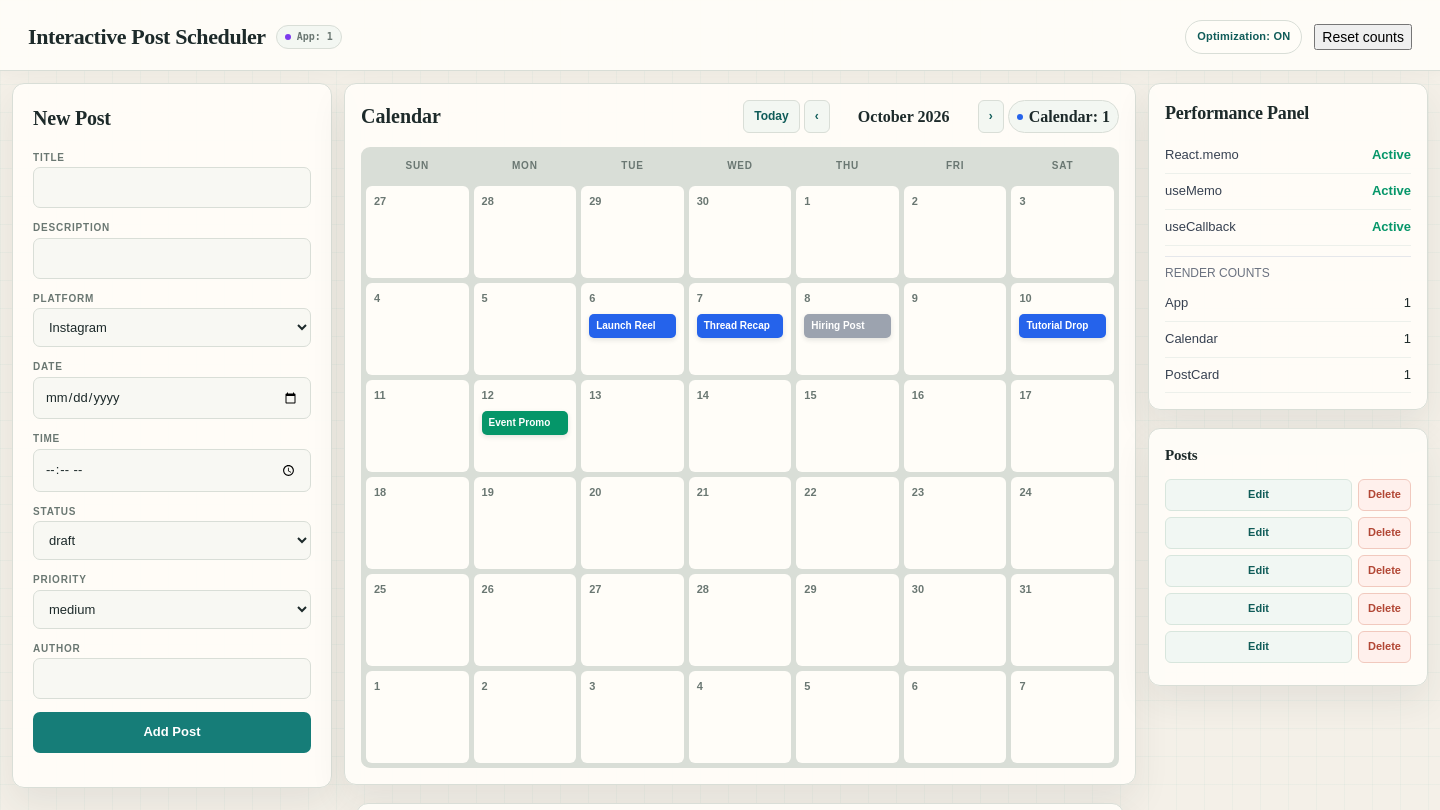
Test: Interactive Calendar › 6. Master optimization toggle switches all optimizations
This screenshot has width=1440, height=810.
Expected: the text with test id "memo-status" reads "Active", [1372, 147, 1411, 162]
Expected: the text with test id "usememo-status" reads "Active", [1372, 183, 1411, 198]
Click the button with test id "optimization-toggle" at (1244, 37), box [1185, 20, 1302, 54]
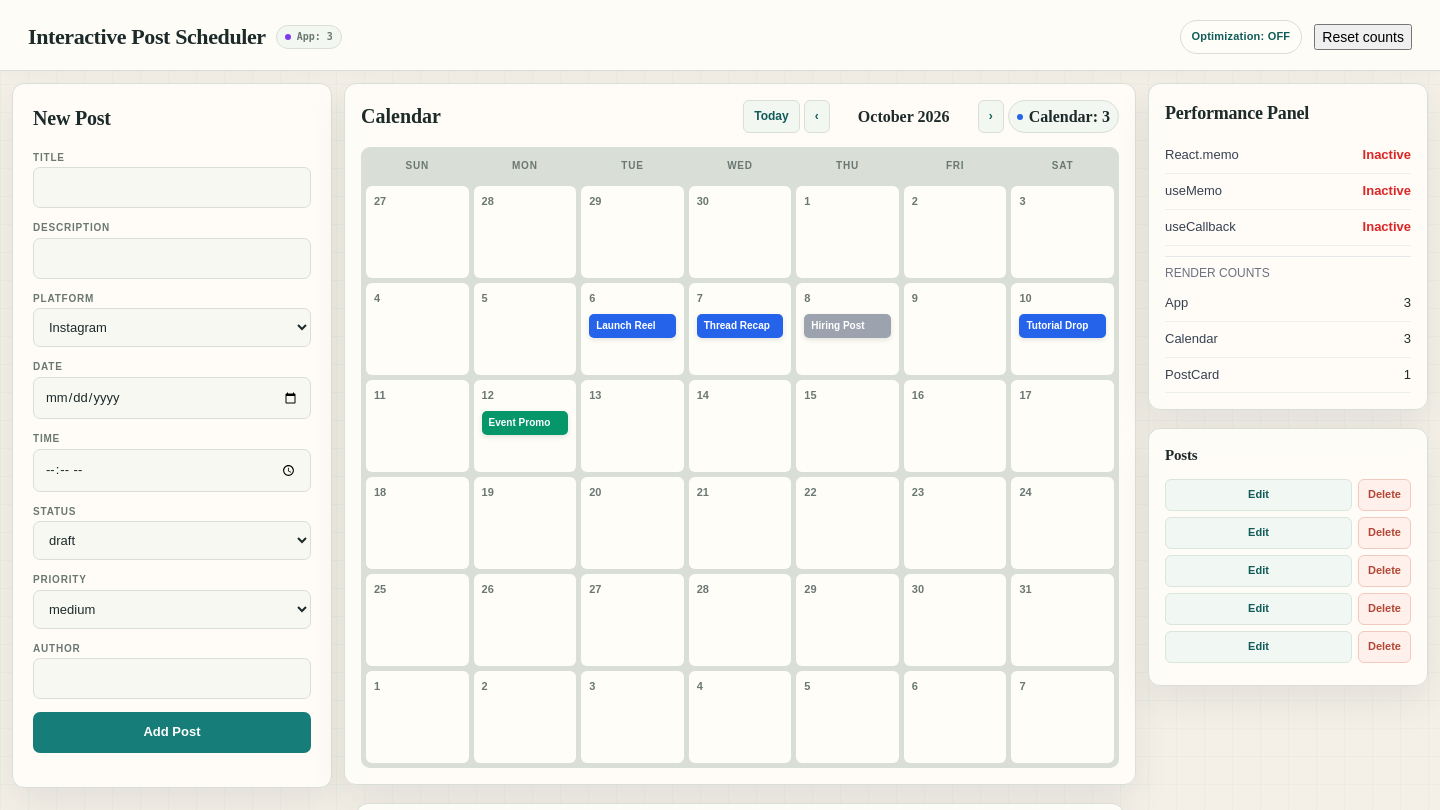
Now the button with test id "optimization-toggle" shows "OFF", box [1180, 20, 1302, 54]
Now the text with test id "memo-status" reads "Inactive", box [1363, 147, 1411, 162]
Now the text with test id "usememo-status" reads "Inactive", box [1363, 183, 1411, 198]
